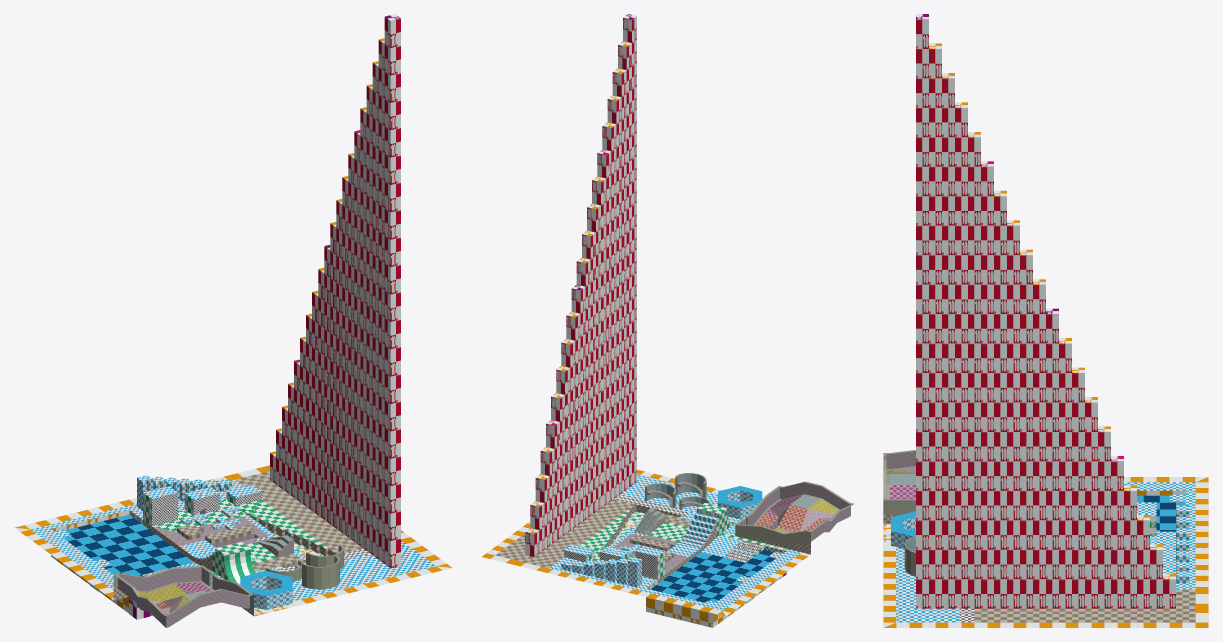
File: Terrain Test Map.obj
3 renders of one model, left to right at view 1: azimuth 30°, elevation 25°; view 2: azimuth 150°, elevation 25°; view 3: azimuth 270°, elevation 25°, orthographic. The views are drawn at different scales.
Parts seen in each view (by area): view 1: n14b7.001, n8b5.001, n17b13.001, n18b12.001, n26b26.001, n10b16.001, n9b15.001, n20b23.001, n7b11.001, n0b0.001, n2b2.001, n6b8.001 (+1 smaller); view 2: n14b7.001, n8b5.001, n17b13.001, n26b26.001, n18b12.001, n10b16.001, n20b23.001, n6b8.001, n7b11.001, n9b15.001, n19b14.001, n2b2.001 (+4 smaller); view 3: n14b7.001, n10b16.001, n8b5.001, n17b13.001, n6b8.001, n20b23.001, n2b2.001, n26b26.001, n0b0.001, n18b12.001.
Boxes of the visible parts, x1,y1,x2,y2 form: n14b7.001: [270, 17, 400, 568]; n8b5.001: [31, 480, 435, 610]; n17b13.001: [113, 471, 362, 615]; n18b12.001: [118, 516, 339, 627]; n26b26.001: [63, 514, 193, 576]; n10b16.001: [14, 465, 452, 613]; n9b15.001: [152, 499, 327, 584]; n20b23.001: [113, 544, 344, 615]; n7b11.001: [142, 491, 406, 615]; n0b0.001: [240, 571, 292, 609]; n2b2.001: [137, 475, 231, 510]; n6b8.001: [51, 38, 384, 616]; n14b7.001: [525, 16, 636, 556]; n8b5.001: [549, 474, 801, 610]; n17b13.001: [495, 499, 810, 583]; n26b26.001: [650, 550, 774, 602]; n18b12.001: [613, 481, 850, 573]; n10b16.001: [482, 469, 810, 627]; n20b23.001: [645, 473, 854, 545]; n6b8.001: [525, 41, 712, 627]; n7b11.001: [564, 495, 785, 579]; n9b15.001: [579, 503, 765, 561]; n19b14.001: [635, 473, 819, 534]; n2b2.001: [561, 557, 641, 587]; n14b7.001: [916, 19, 1175, 608]; n10b16.001: [883, 477, 1208, 627]; n8b5.001: [896, 482, 1195, 622]; n17b13.001: [883, 515, 1195, 622]; n6b8.001: [883, 43, 1175, 579]; n20b23.001: [883, 450, 915, 576]; n2b2.001: [1176, 505, 1189, 583]; n26b26.001: [1137, 495, 1185, 531]; n0b0.001: [891, 511, 915, 548]; n18b12.001: [886, 451, 915, 473].
Size of the model in its own units: 1.1 by 2.1 by 1.
27 materials, 27 textured.
